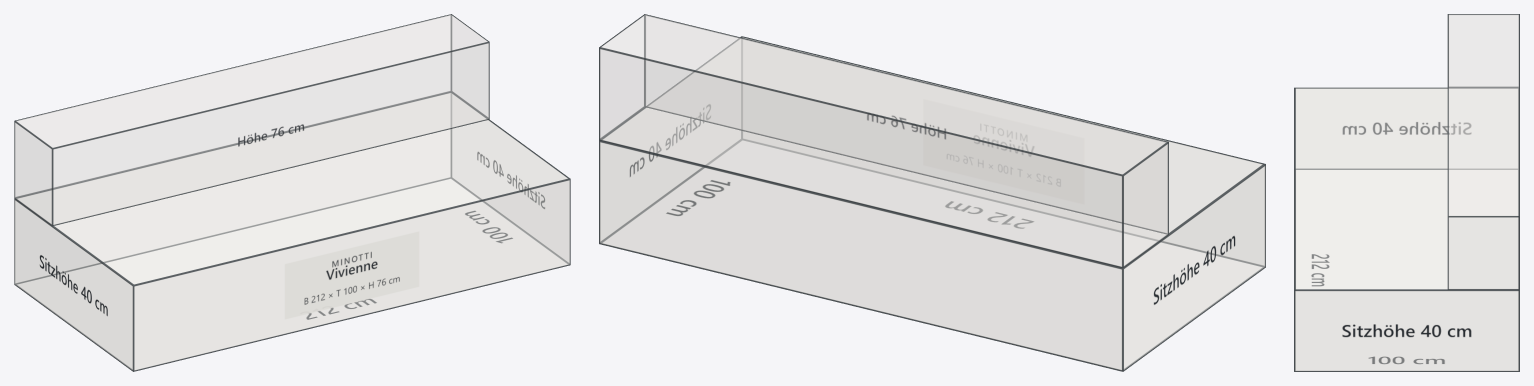
Rendered from armchairs-vivienne-armchairs.glb.
The picture shows the model from 3 angles, left to right: view 1: azimuth 30°, elevation 25°; view 2: azimuth 150°, elevation 25°; view 3: azimuth 270°, elevation 25°; orthographic projection. The views are drawn at different scales.
Visible parts, largest first — view 1: sitz_oben, Grundflaeche, sitz_vorne, sitz_hinten, ruecken_vorne, ruecken_hinten, ruecken_oben, sitz_links, sitz_rechts, ruecken_links, ruecken_rechts; view 2: Grundflaeche, sitz_oben, sitz_hinten, ruecken_hinten, ruecken_vorne, ruecken_oben, sitz_vorne, sitz_links, sitz_rechts, ruecken_links, ruecken_rechts; view 3: sitz_oben, Grundflaeche, sitz_rechts, sitz_links, ruecken_oben, ruecken_rechts, ruecken_links.
Part boxes in pixels (x1,y1,x2,y2): sitz_oben: [15, 92, 570, 285]; Grundflaeche: [15, 177, 569, 370]; sitz_vorne: [133, 179, 570, 371]; sitz_hinten: [15, 93, 451, 283]; ruecken_vorne: [52, 42, 489, 226]; ruecken_hinten: [15, 15, 451, 197]; ruecken_oben: [14, 14, 489, 148]; sitz_links: [14, 199, 133, 371]; sitz_rechts: [451, 94, 569, 263]; ruecken_links: [14, 121, 52, 225]; ruecken_rechts: [451, 15, 488, 118]; Grundflaeche: [600, 139, 1264, 370]; sitz_oben: [601, 36, 1265, 266]; sitz_hinten: [599, 140, 1123, 371]; ruecken_hinten: [599, 47, 1123, 268]; ruecken_vorne: [644, 15, 1168, 234]; ruecken_oben: [599, 14, 1168, 174]; sitz_vorne: [742, 37, 1265, 266]; sitz_links: [1123, 164, 1265, 371]; sitz_rechts: [600, 104, 741, 242]; ruecken_links: [1123, 142, 1168, 267]; ruecken_rechts: [600, 15, 644, 139]; sitz_oben: [1294, 87, 1518, 289]; Grundflaeche: [1295, 169, 1518, 370]; sitz_rechts: [1294, 290, 1519, 371]; sitz_links: [1296, 88, 1517, 169]; ruecken_oben: [1447, 14, 1519, 216]; ruecken_rechts: [1447, 216, 1519, 289]; ruecken_links: [1448, 14, 1518, 87].
Bounding box in the file's own units: 2.12 × 0.76 × 1.
Materials: 11 (11 with a texture image).
